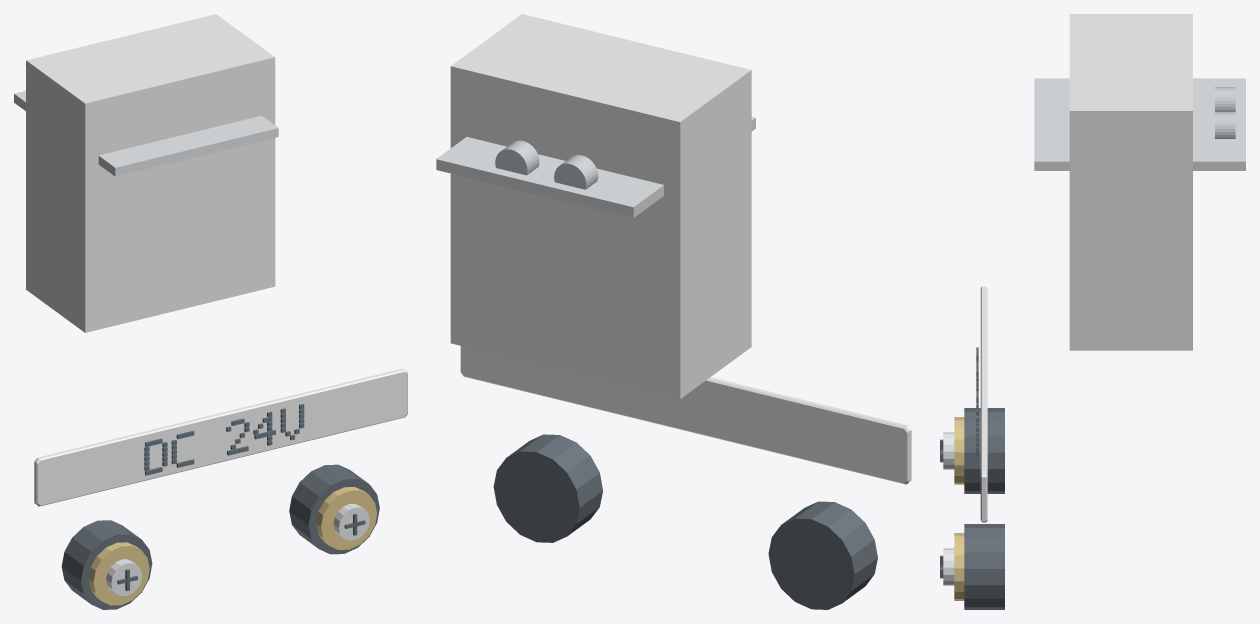
The model's file is dcSupply.glb.
3 renders of one model, left to right at view 1: azimuth 30°, elevation 25°; view 2: azimuth 150°, elevation 25°; view 3: azimuth 270°, elevation 25°, orthographic. The views are drawn at different scales.
Parts seen in each view (by area): view 1: dcSupply-preview; view 2: dcSupply-preview; view 3: dcSupply-preview.
Part boxes in pixels (x1,y1,x2,y2): dcSupply-preview: [14, 14, 407, 609]; dcSupply-preview: [436, 14, 911, 609]; dcSupply-preview: [940, 14, 1245, 609].
Bounding box in the file's own units: 1.63 × 1.95 × 1.11.
